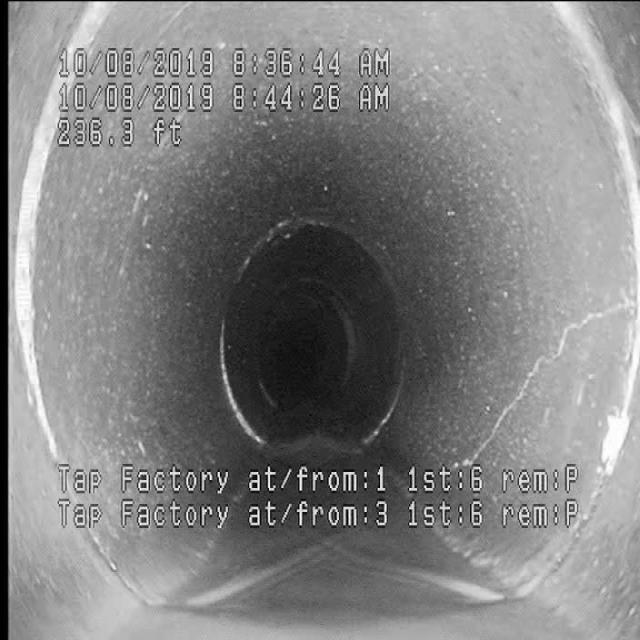Crack: (480, 262, 616, 450)
